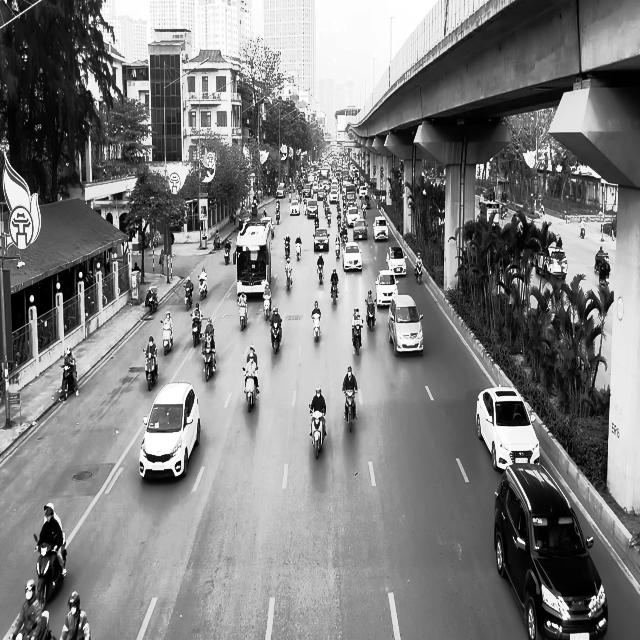bus: (233, 220, 272, 300)
car: (494, 462, 608, 640), (138, 382, 200, 481), (475, 385, 540, 472), (388, 293, 424, 356), (534, 244, 568, 280), (375, 269, 399, 308), (386, 245, 407, 276), (342, 242, 362, 272), (372, 216, 388, 240)
motorbike: (33, 532, 67, 608), (309, 406, 326, 460), (58, 363, 79, 401), (242, 366, 258, 412), (342, 389, 357, 432), (143, 349, 158, 391), (202, 347, 216, 381), (351, 320, 363, 356), (190, 312, 202, 348), (161, 320, 173, 355), (270, 318, 282, 353), (597, 258, 610, 288), (146, 286, 158, 312), (365, 300, 375, 331), (311, 313, 321, 342), (238, 301, 247, 331), (198, 274, 208, 300), (262, 293, 271, 321), (184, 285, 193, 311), (316, 260, 324, 285), (285, 262, 292, 290), (414, 263, 423, 284), (331, 280, 338, 304), (224, 241, 231, 264), (295, 241, 301, 261)
